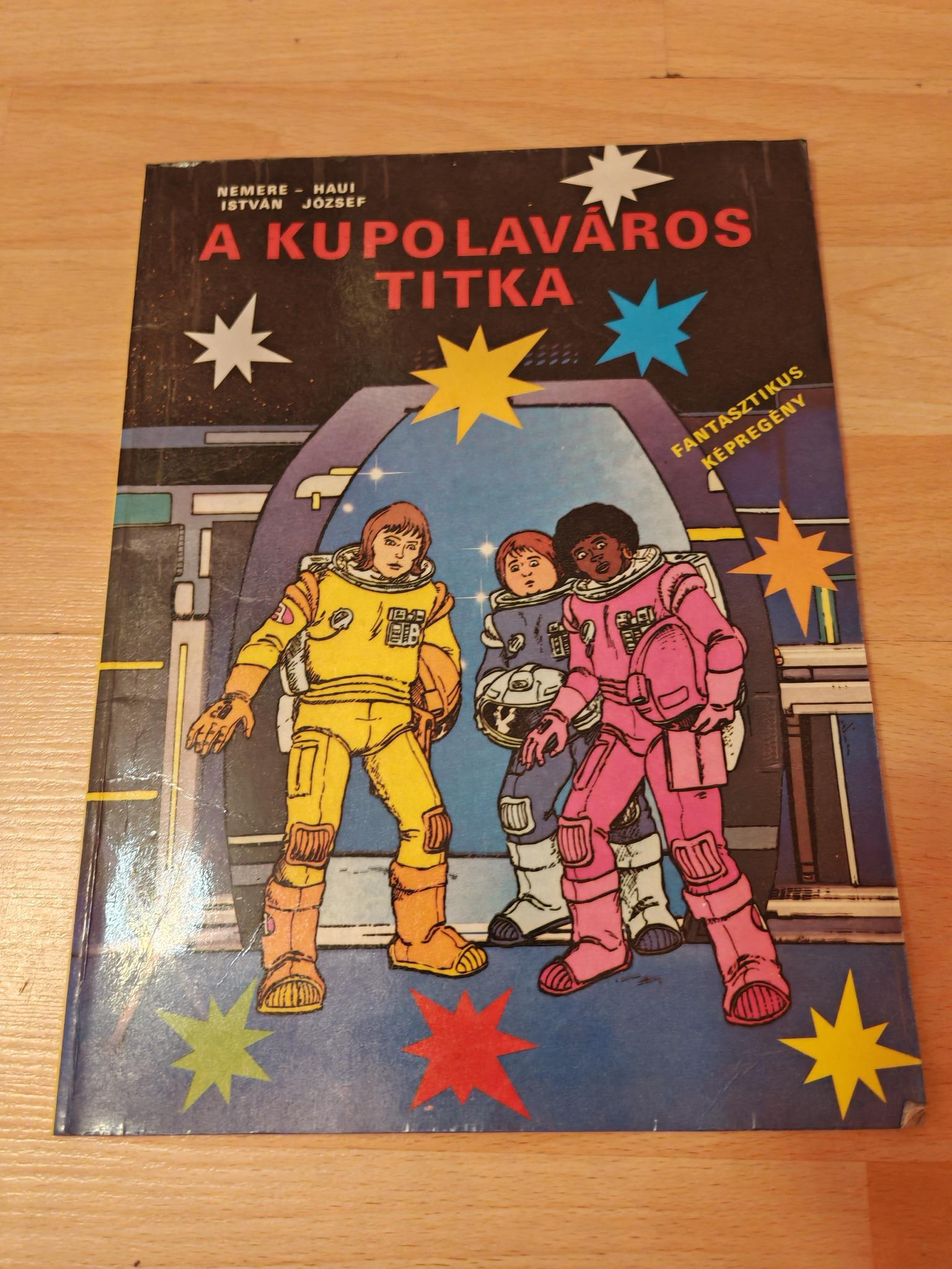comic: (46, 140, 924, 1135)
